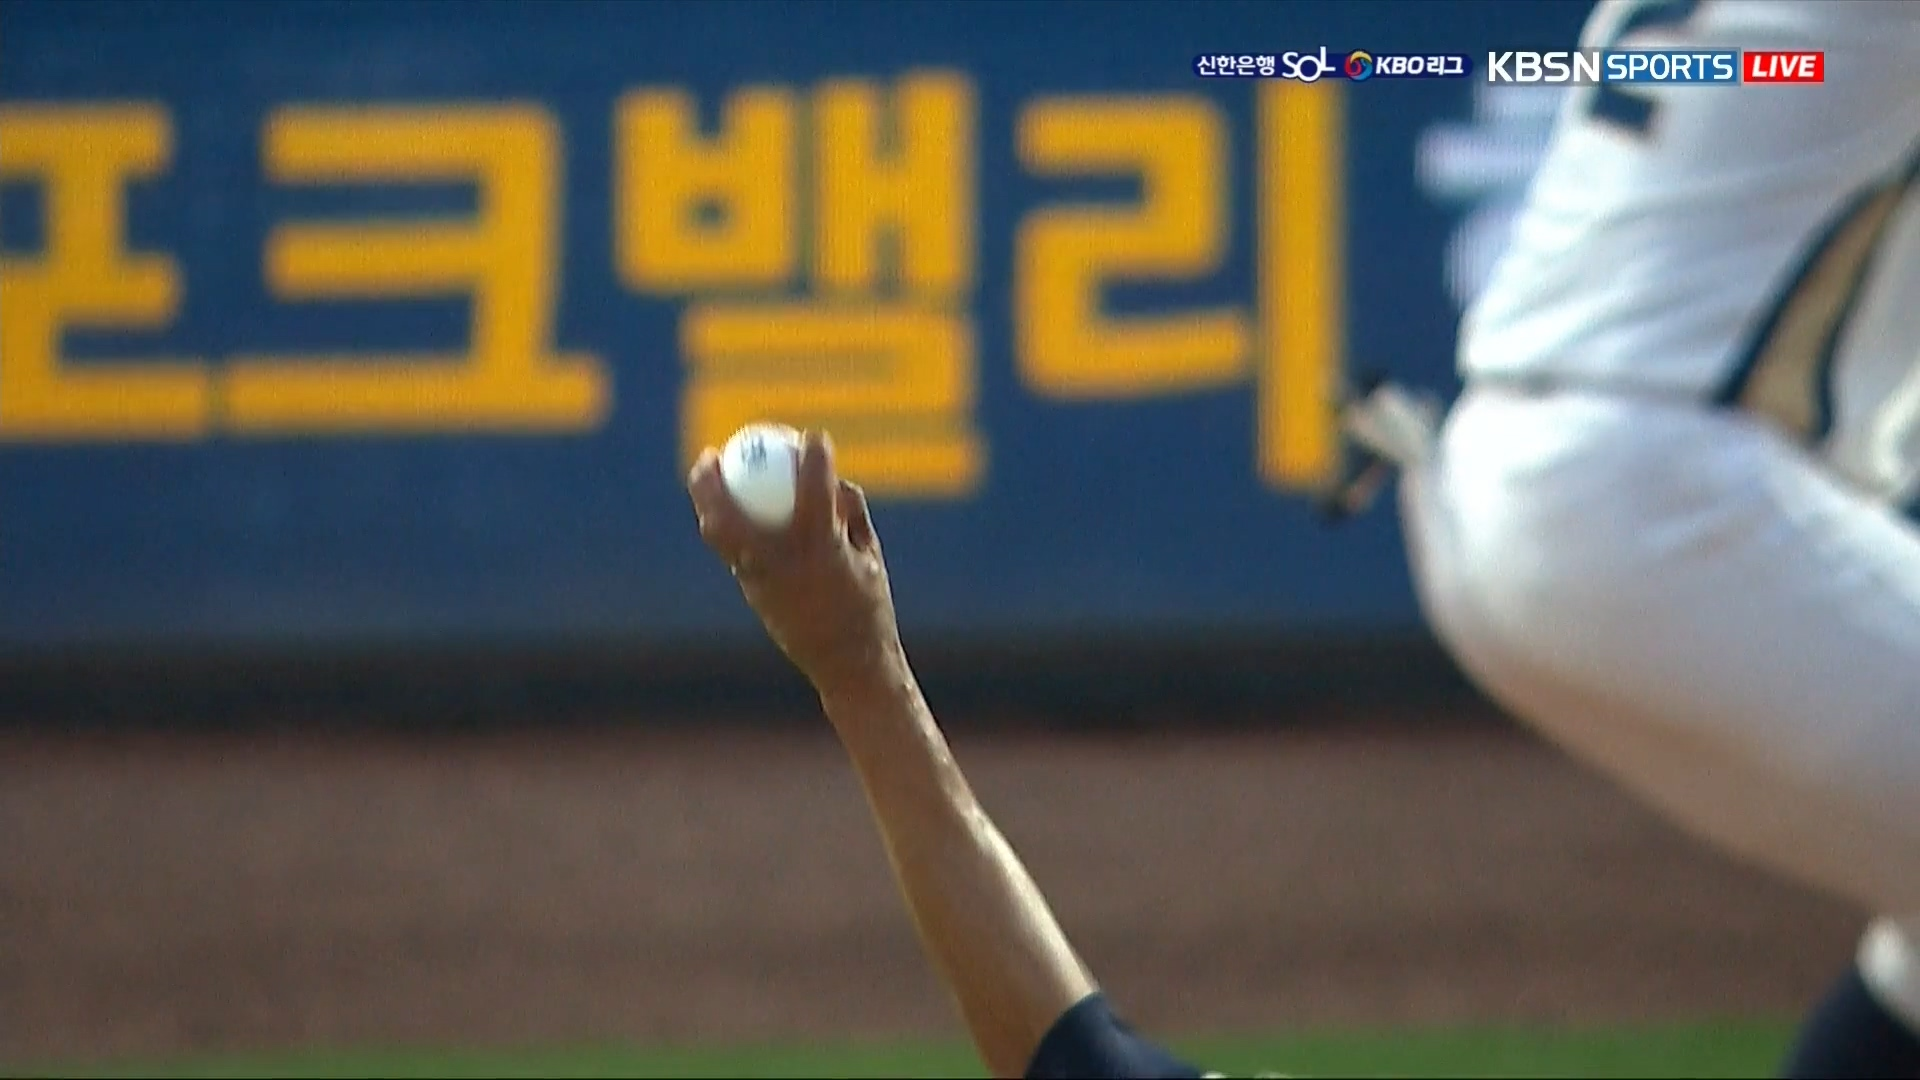zoomin_hand: (666, 397, 1143, 1063)
